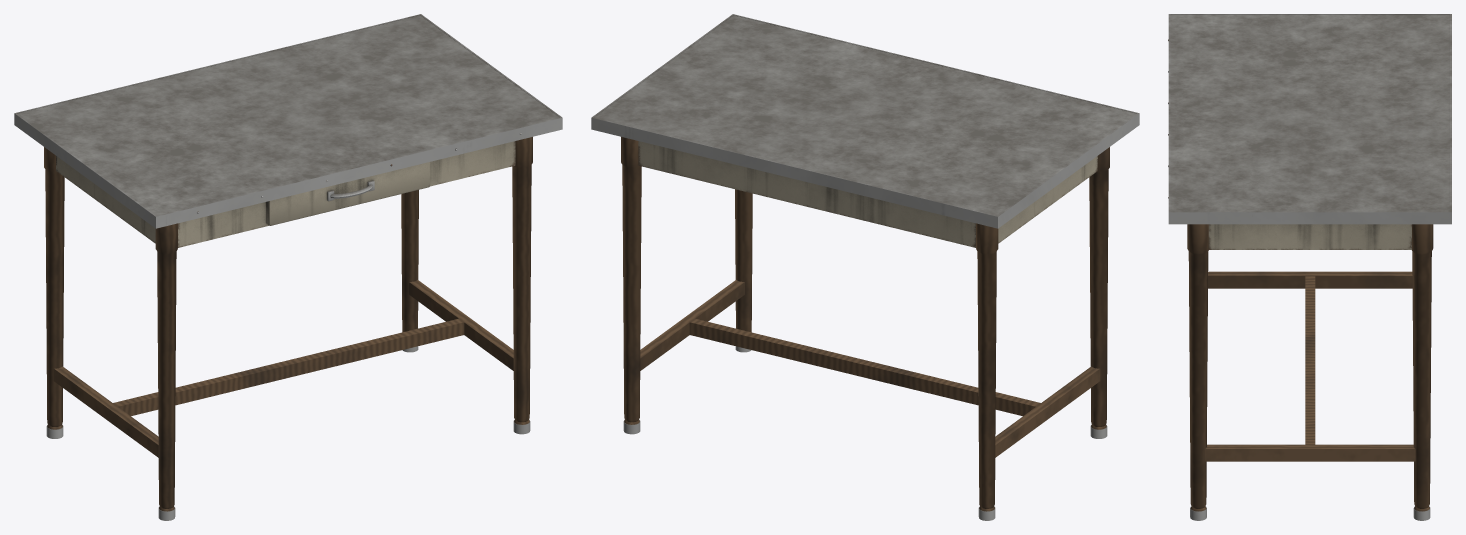
The model's file is SM_KitchenTable_Formica.fbx.
3 renders of one model, left to right at view 1: azimuth 30°, elevation 25°; view 2: azimuth 150°, elevation 25°; view 3: azimuth 270°, elevation 25°, orthographic.
Visible parts, largest first — view 1: SM_KitchenTable_Formica; view 2: SM_KitchenTable_Formica; view 3: SM_KitchenTable_Formica.
Part boxes in pixels (box(x1,y1,x2,y2)): SM_KitchenTable_Formica: box(14, 14, 562, 520); SM_KitchenTable_Formica: box(591, 14, 1139, 520); SM_KitchenTable_Formica: box(1168, 14, 1451, 520).
Bounding box in the file's own units: 1.01 × 0.7525 × 0.6094.
Materials: 1 (1 with a texture image).
